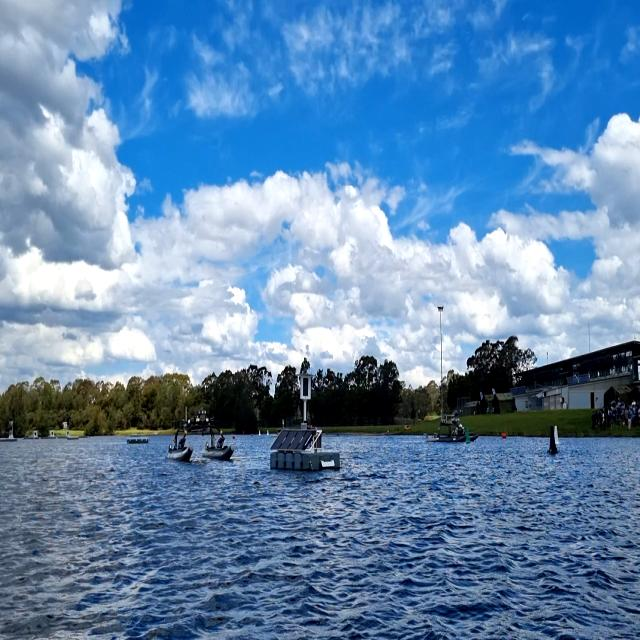led: (301, 376, 310, 398)
